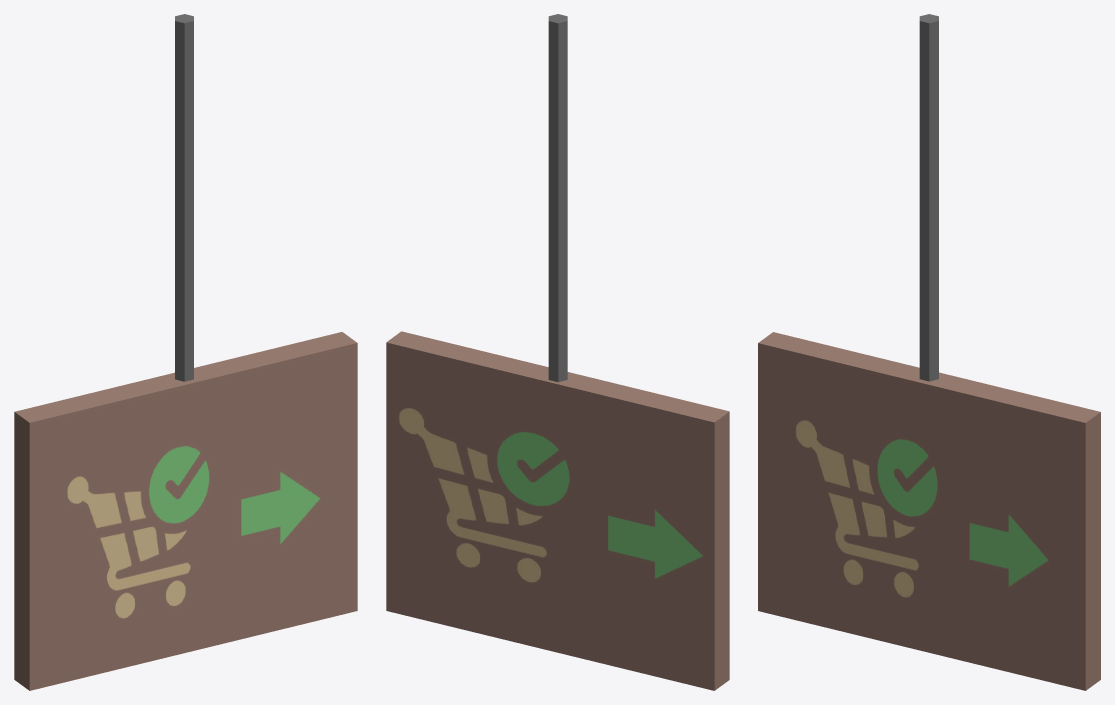
File: cartel_07.fbx
The picture shows the model from 3 angles, left to right: view 1: azimuth 30°, elevation 25°; view 2: azimuth 150°, elevation 25°; view 3: azimuth 330°, elevation 25°; orthographic projection.
Visible parts, largest first — view 1: Cartel SALIDA; view 2: Cartel SALIDA; view 3: Cartel SALIDA.
Boxes of the visible parts, bbox=[...] form: Cartel SALIDA: bbox=[14, 14, 357, 690]; Cartel SALIDA: bbox=[386, 14, 729, 690]; Cartel SALIDA: bbox=[758, 14, 1100, 690].
Bounding box in the file's own units: 88.12 × 161 × 7.08.
Materials: 3 (1 with a texture image).
